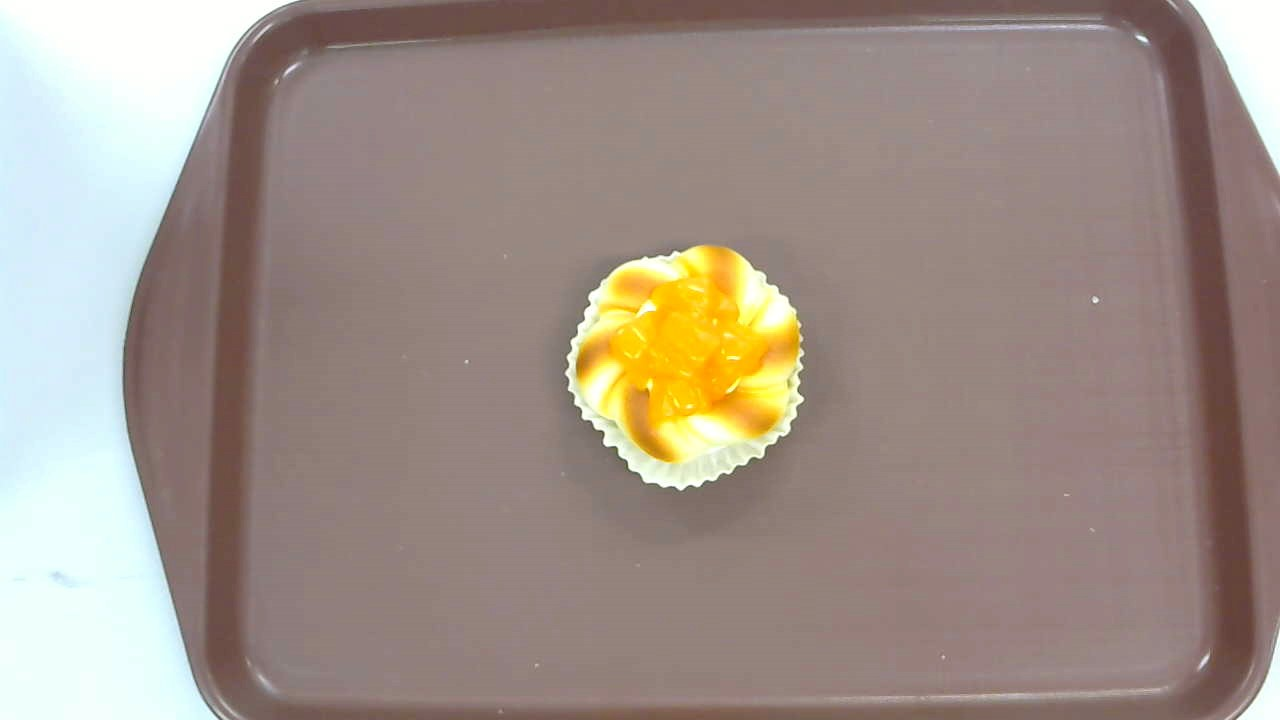mango tart: (563, 244, 805, 491)
